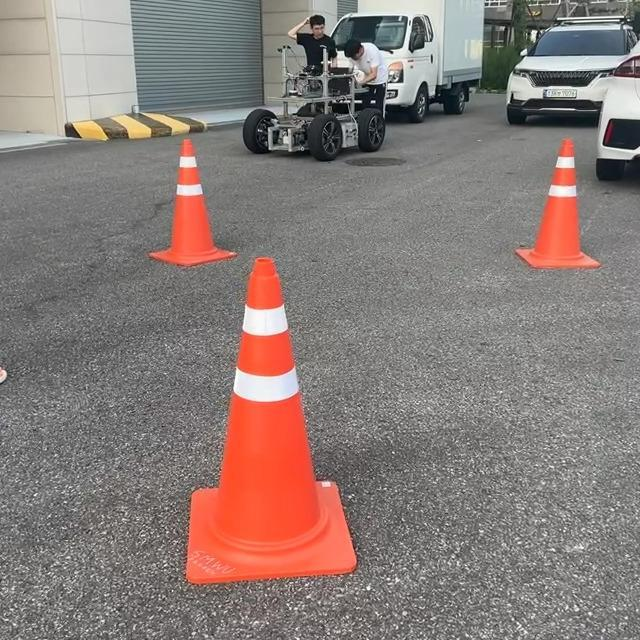fallen_object: (99, 270, 390, 616), (480, 96, 640, 360), (117, 142, 246, 280)
